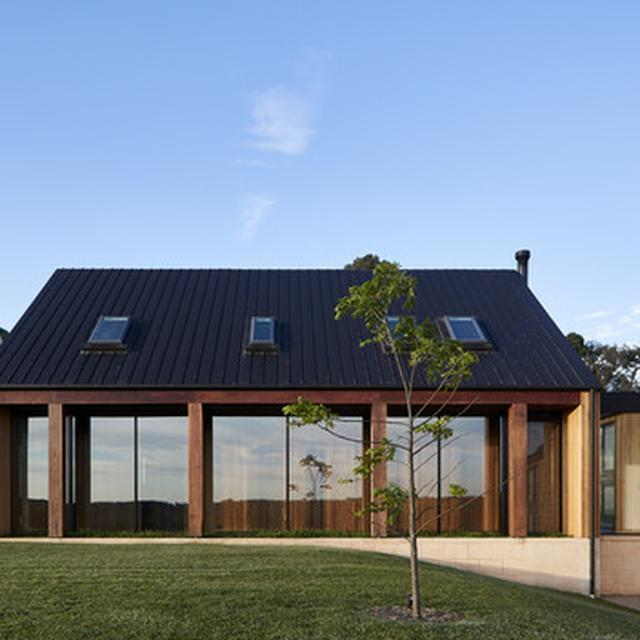building: (0, 267, 596, 539)
